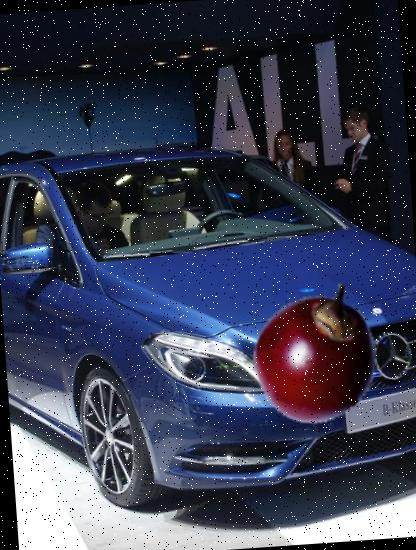Tamarillo: (245, 284, 390, 429)
